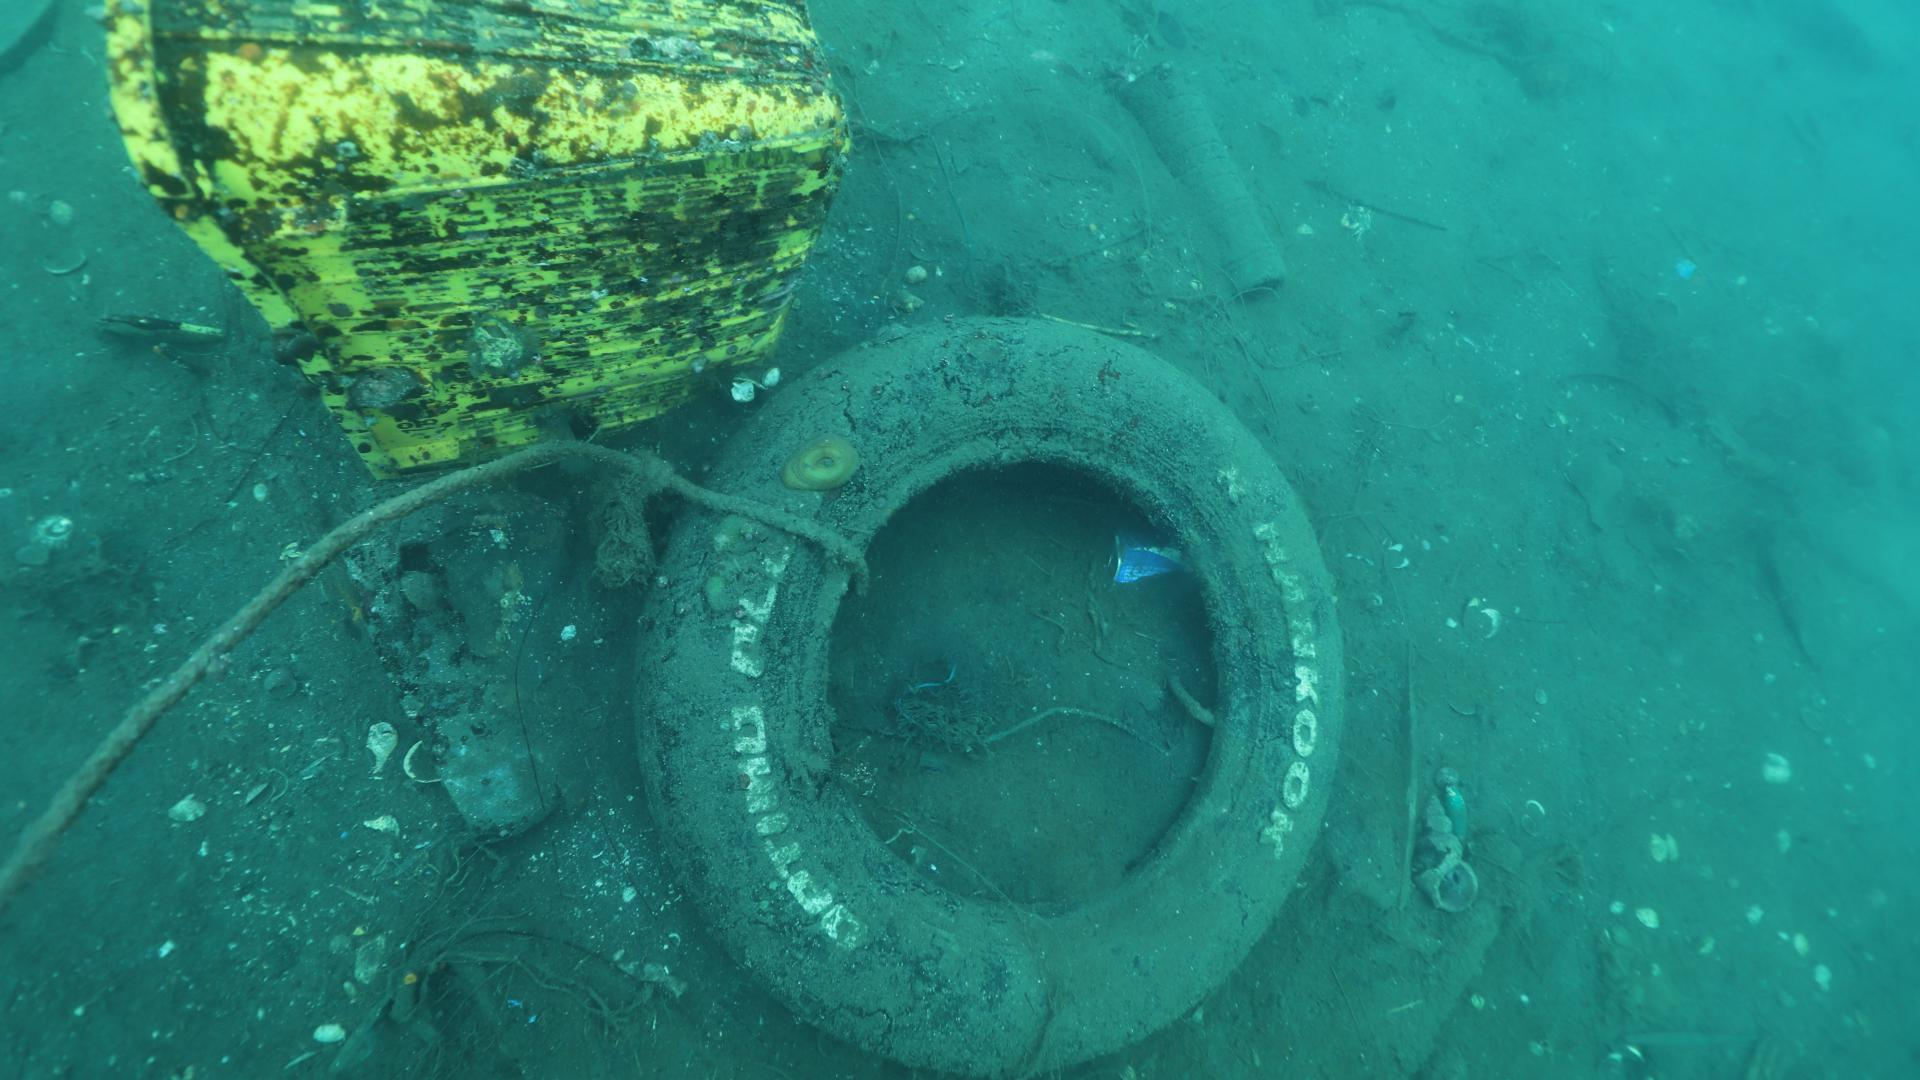bundle of ropes: (0, 425, 880, 924)
tire: (622, 302, 1346, 1075)
